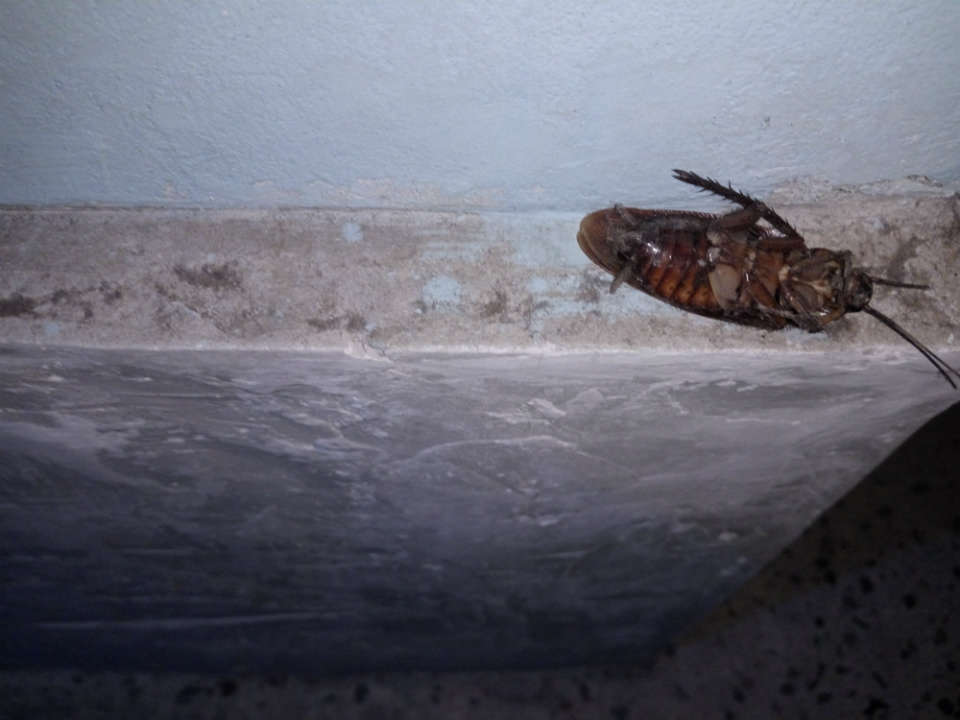cockroach: (561, 123, 960, 401)
